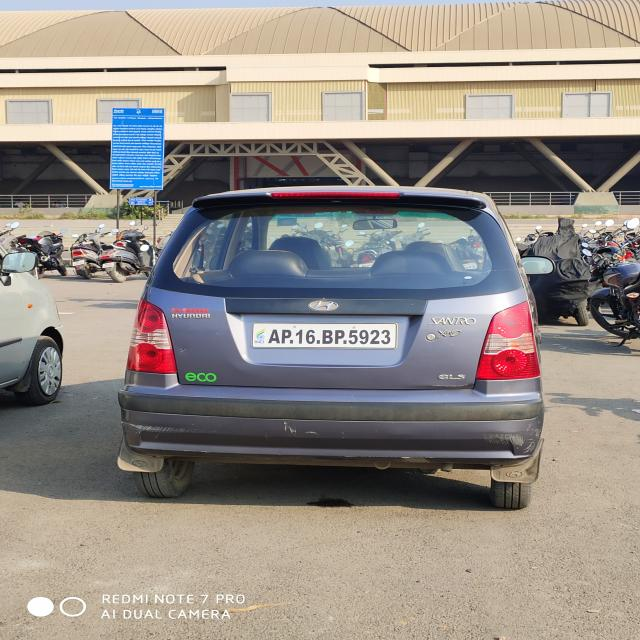Number-Plate: (255, 321, 395, 348)
